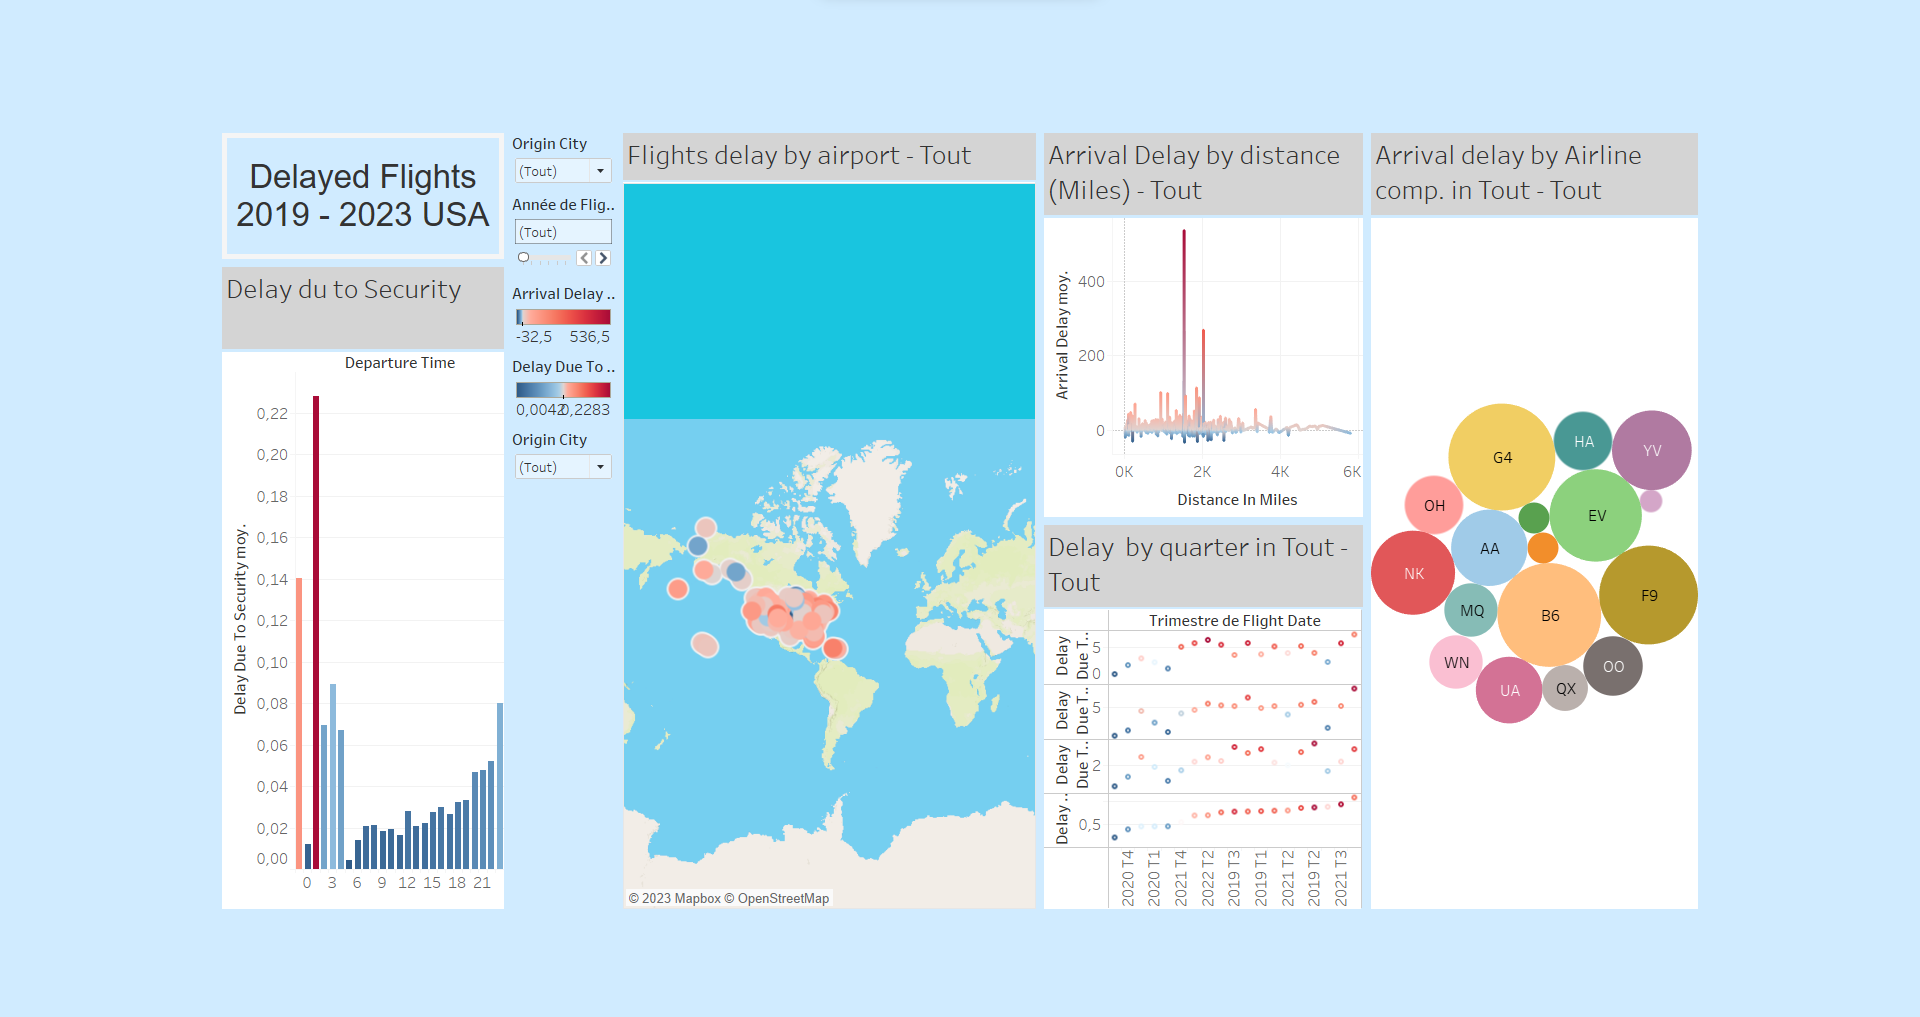

Layout of this report page (visuals, bound fields, positions):
{"tool":"tableau","page":{"name":"Tableau de bord delay","canvas":[1500,800],"ordinal":2},"visuals":[{"type":"title","box":[8,8,290,134]},{"type":"filter","title":"Feuille 6","param":"[federated.0ry08tp0iokk6n10wilm30p9jspj].[none:origin_city:nk]","box":[298,8,111,61]},{"type":"worksheet","title":"map delay","mark":"Automatic","box":[409,8,421,784]},{"type":"worksheet","title":"delay/miles","mark":"Automatic","rows":["arrival_delay"],"cols":["distance_in_miles"],"box":[830,8,327,392]},{"type":"worksheet","title":"Feuille 6","mark":"Circle","box":[1157,8,335,784]},{"type":"filter","title":"Feuille 6","param":"[federated.0ry08tp0iokk6n10wilm30p9jspj].[yr:flight_date:ok]","box":[298,69,111,89]},{"type":"worksheet","title":"Feuille 9","mark":"Bar","rows":["delay_due_to_security"],"cols":["departure_time"],"box":[8,142,290,650]},{"type":"legend","title":"delay/miles","param":"[federated.0ry08tp0iokk6n10wilm30p9jspj].[avg:arrival_delay:qk]","box":[298,158,111,73]},{"type":"legend","title":"Feuille 9","param":"[federated.0ry08tp0iokk6n10wilm30p9jspj].[avg:delay_due_to_security:qk]","box":[298,231,111,73]},{"type":"filter","title":"Feuille 10","param":"[federated.0ry08tp0iokk6n10wilm30p9jspj].[none:origin_city:nk]","box":[298,304,111,61]},{"type":"worksheet","title":"Feuille 10","mark":"Shape","rows":["delay_due_to_carrier","delay_due_to_late_aircraft","delay_due_to_national_aviation_system","delay_due_to_weather"],"cols":["flight_date"],"box":[830,400,327,392]}]}

Visuals, with their boxes in screenshot pixels (x1, y1, x2, y2), scaled from the page's 1500x800 canvas onto the 1920x1017 screenshot:
title: <bbox>10, 10, 381, 181</bbox>
"Feuille 6" filter: <bbox>381, 10, 524, 88</bbox>
"map delay" worksheet: <bbox>524, 10, 1062, 1007</bbox>
"delay/miles" worksheet: <bbox>1062, 10, 1481, 508</bbox>
"Feuille 6" worksheet (Circle marks): <bbox>1481, 10, 1910, 1007</bbox>
"Feuille 6" filter: <bbox>381, 88, 524, 201</bbox>
"Feuille 9" worksheet (Bar marks): <bbox>10, 181, 381, 1007</bbox>
"delay/miles" legend: <bbox>381, 201, 524, 294</bbox>
"Feuille 9" legend: <bbox>381, 294, 524, 386</bbox>
"Feuille 10" filter: <bbox>381, 386, 524, 464</bbox>
"Feuille 10" worksheet (Shape marks): <bbox>1062, 508, 1481, 1007</bbox>
